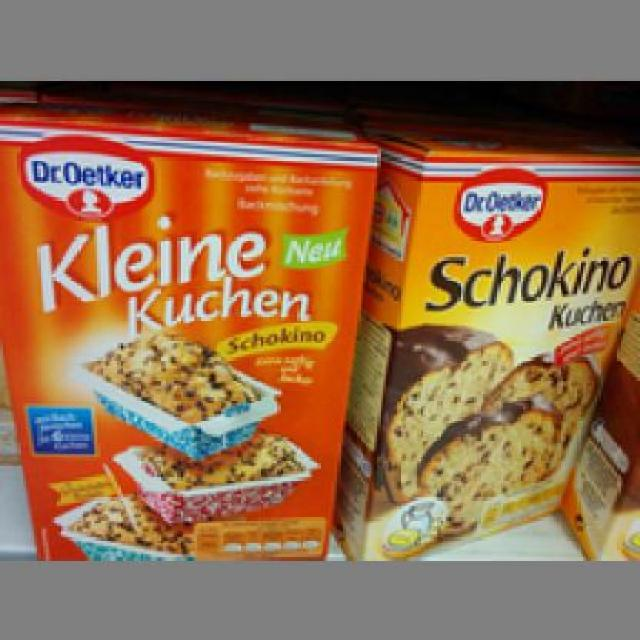Cake: (3, 117, 377, 554), (354, 117, 623, 563)
